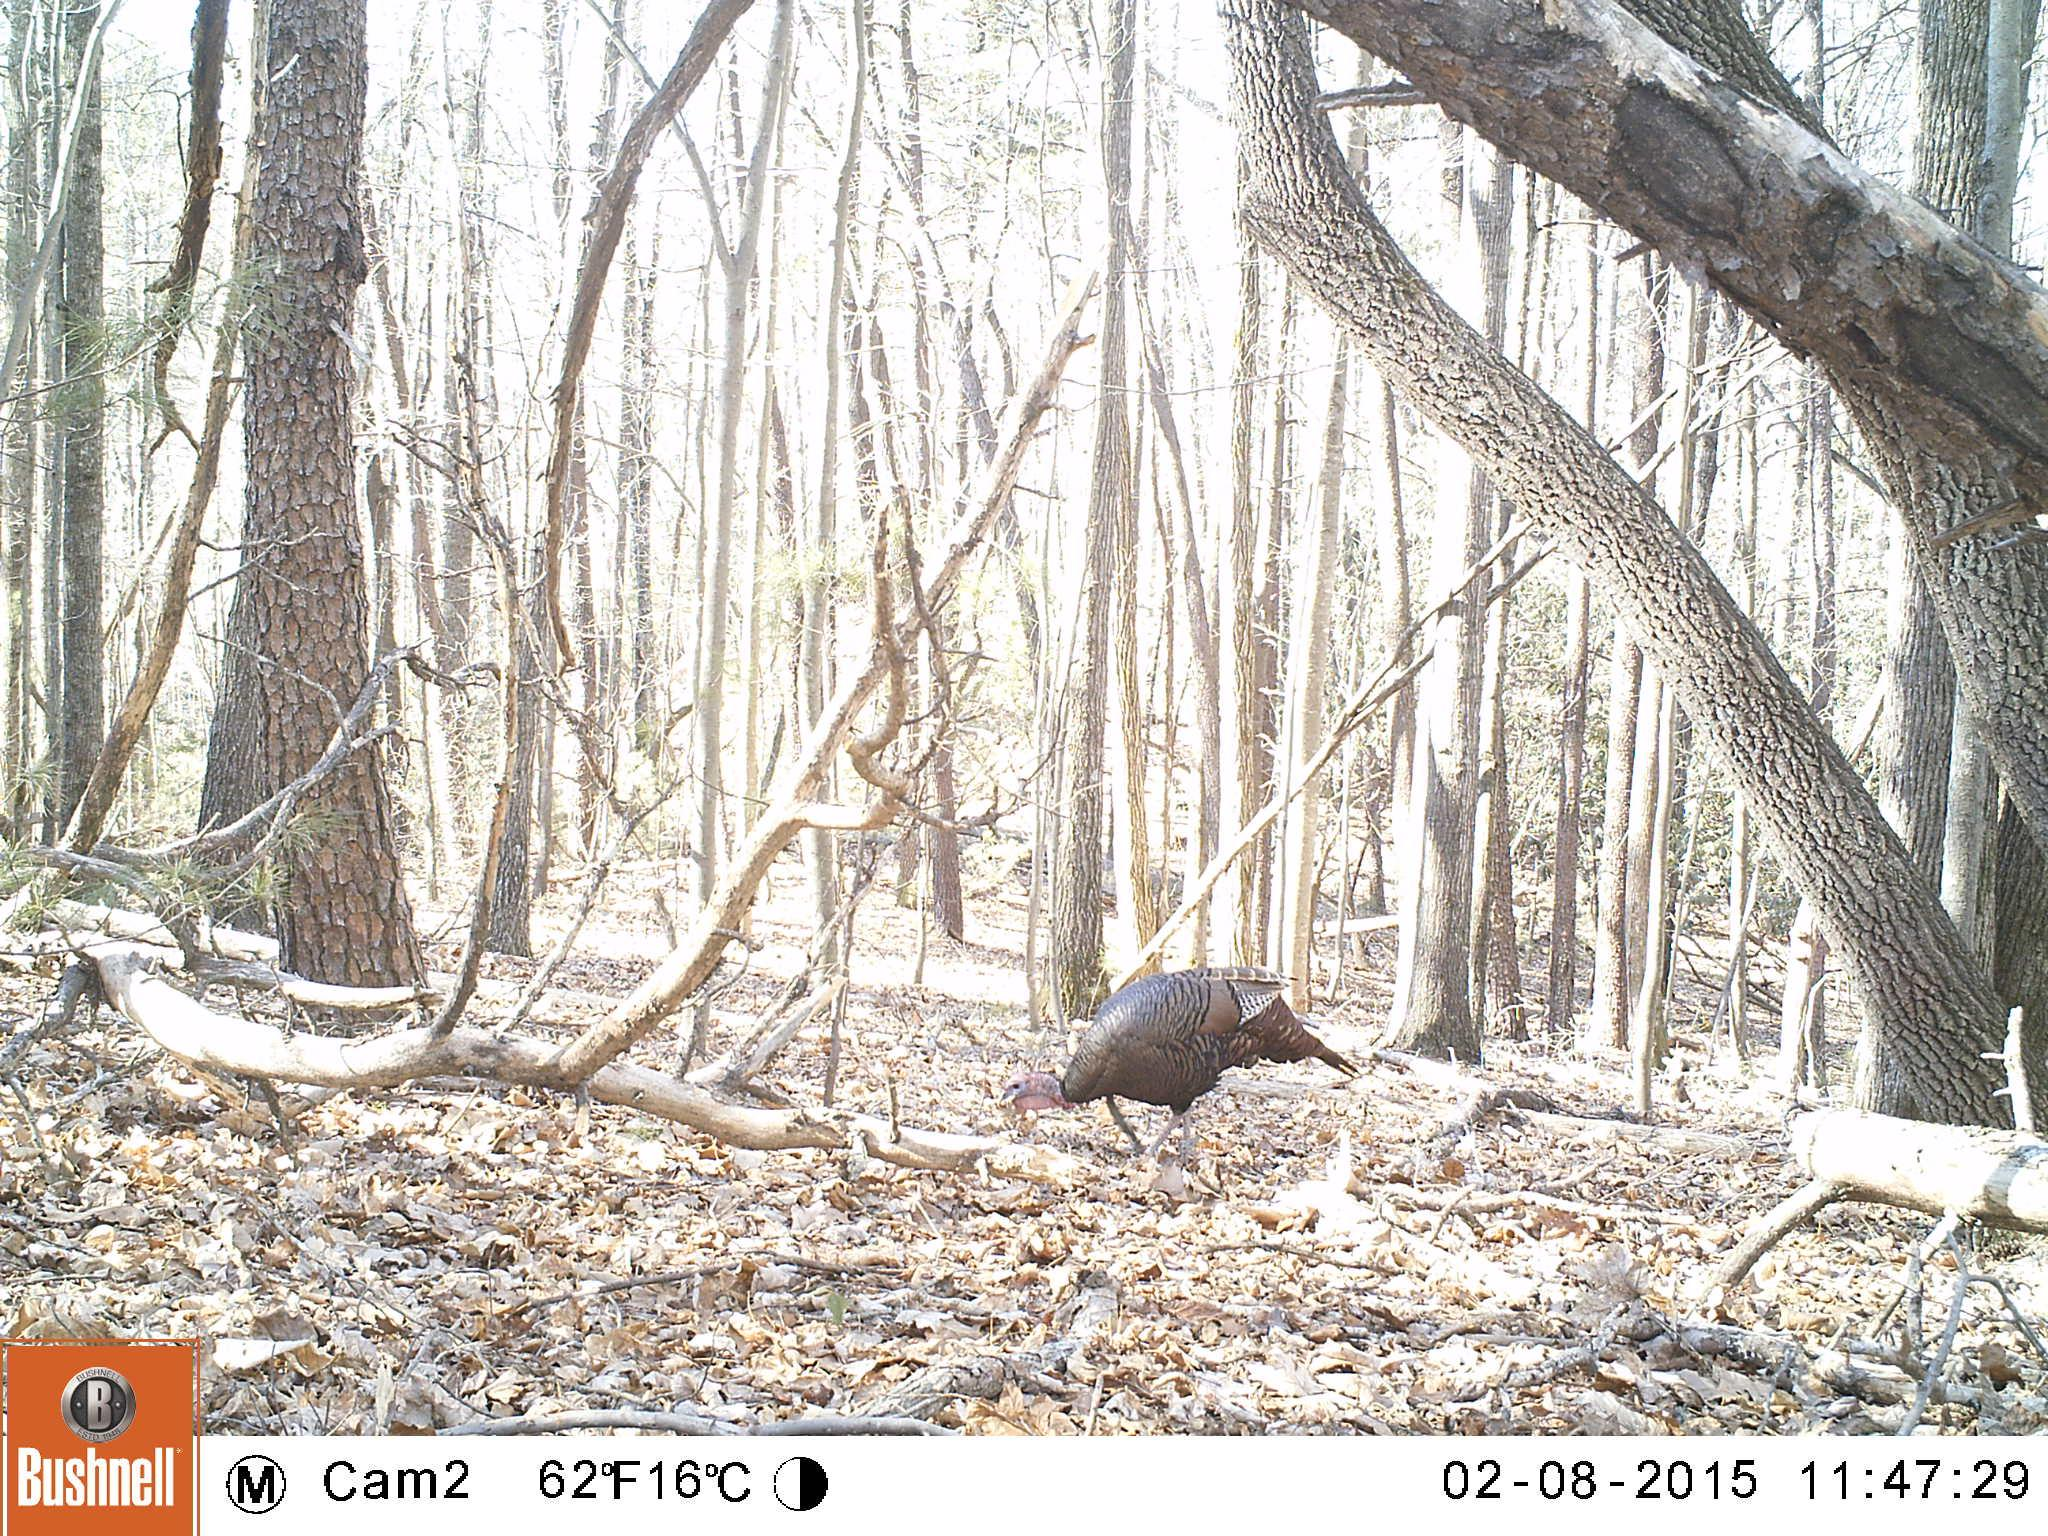Animal: (1001, 962, 1358, 1163)
